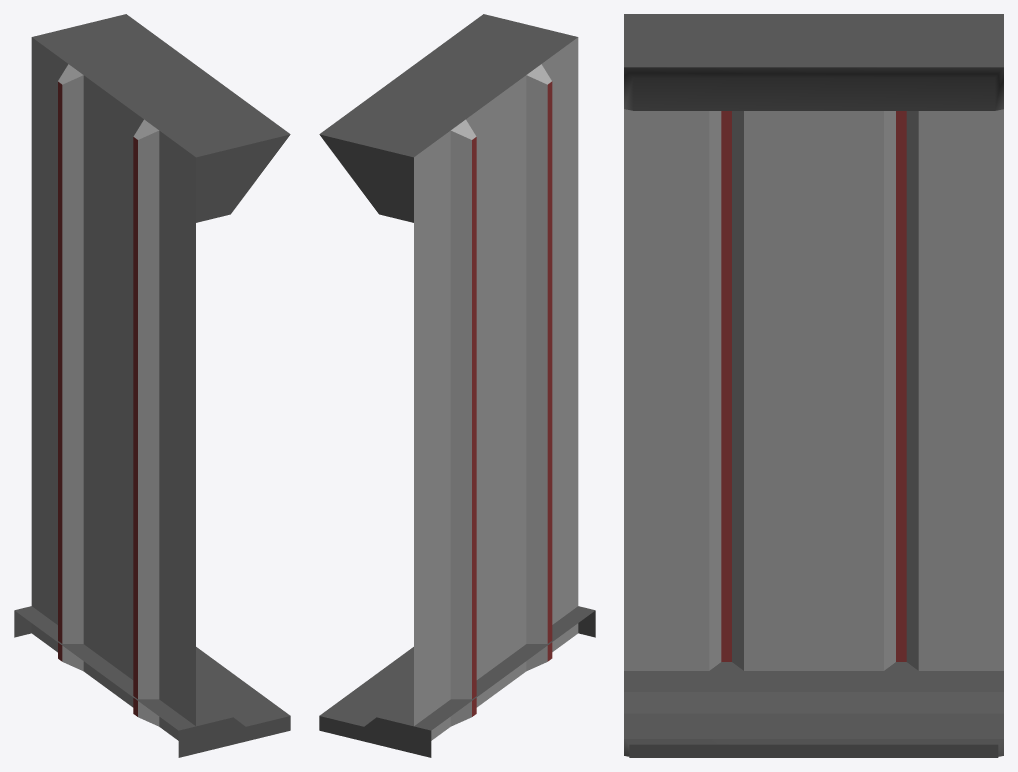
File: SM_Module_13.fbx
3 renders of one model, left to right at view 1: azimuth 30°, elevation 25°; view 2: azimuth 150°, elevation 25°; view 3: azimuth 270°, elevation 25°, orthographic. The views are drawn at different scales.
Visible parts, largest first — view 1: SM_Module_07; view 2: SM_Module_07; view 3: SM_Module_07.
Part boxes in pixels (x1=…): SM_Module_07: x1=14, y1=14, x2=290, y2=757; SM_Module_07: x1=319, y1=14, x2=595, y2=757; SM_Module_07: x1=624, y1=14, x2=1003, y2=757.
Bounding box in the file's own units: 120 × 601 × 300.
